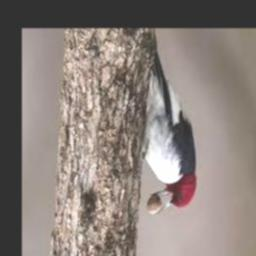Woodpecker: (143, 32, 197, 216)
